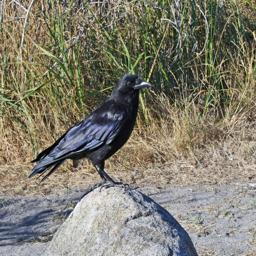Crow: (26, 70, 154, 194)
